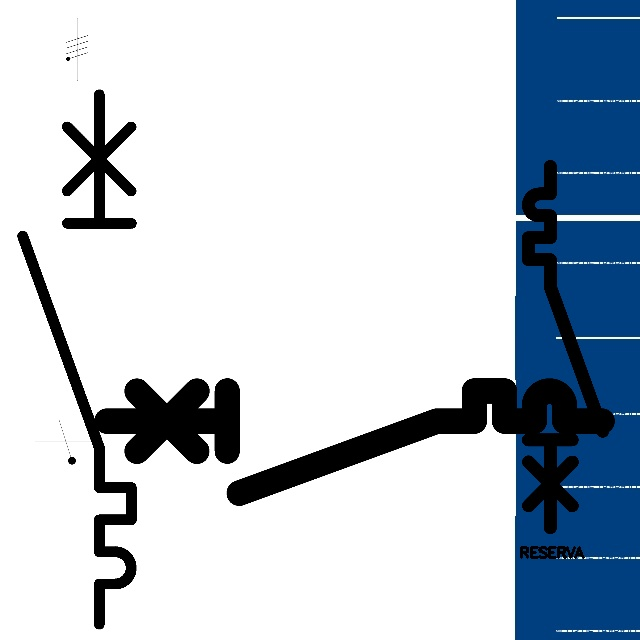interruptor_termomagnetico: (9, 81, 145, 638), (93, 378, 614, 505), (519, 157, 612, 537)
